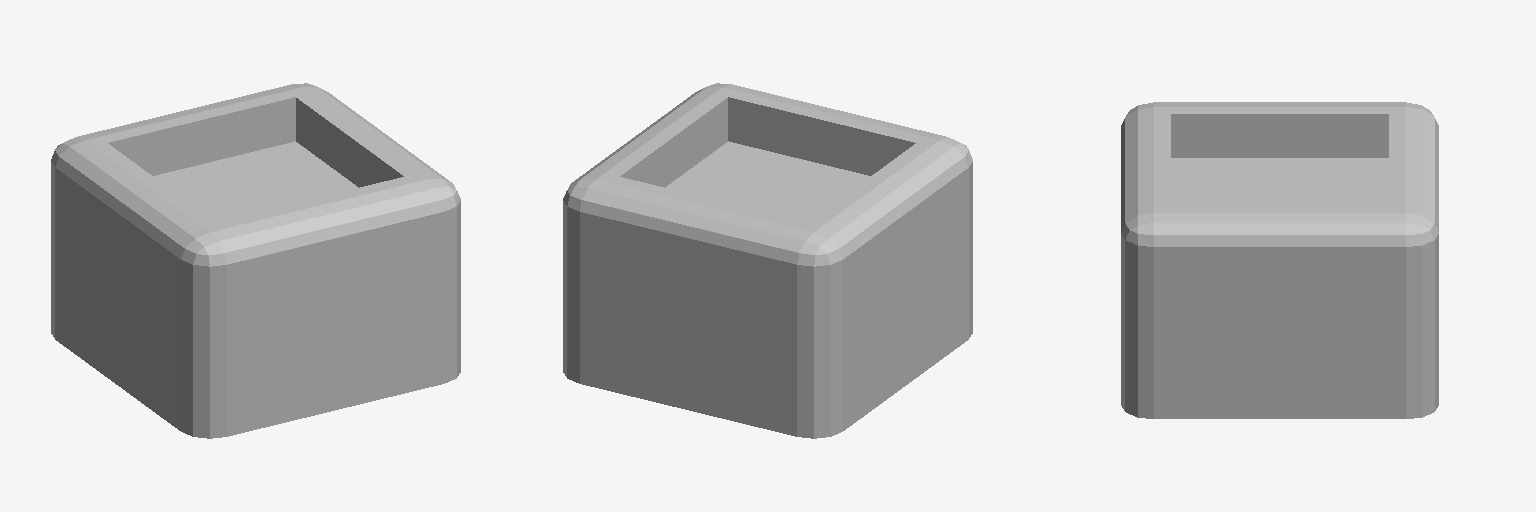
Rendered from iron_refinery.obj.
3 views of the same model, side by side, from view 1: azimuth 30°, elevation 25°; view 2: azimuth 150°, elevation 25°; view 3: azimuth 270°, elevation 25° (orthographic).
Parts seen in each view (by area): view 1: Building, IronLevel; view 2: Building, IronLevel; view 3: Building, IronLevel.
Part boxes in pixels (bbox=[...]): Building: bbox=[51, 83, 460, 438]; IronLevel: bbox=[153, 141, 358, 221]; Building: bbox=[563, 83, 972, 438]; IronLevel: bbox=[665, 141, 870, 221]; Building: bbox=[1121, 102, 1438, 418]; IronLevel: bbox=[1171, 158, 1388, 205].
Bounding box in the file's own units: 1.5 × 1 × 1.5.